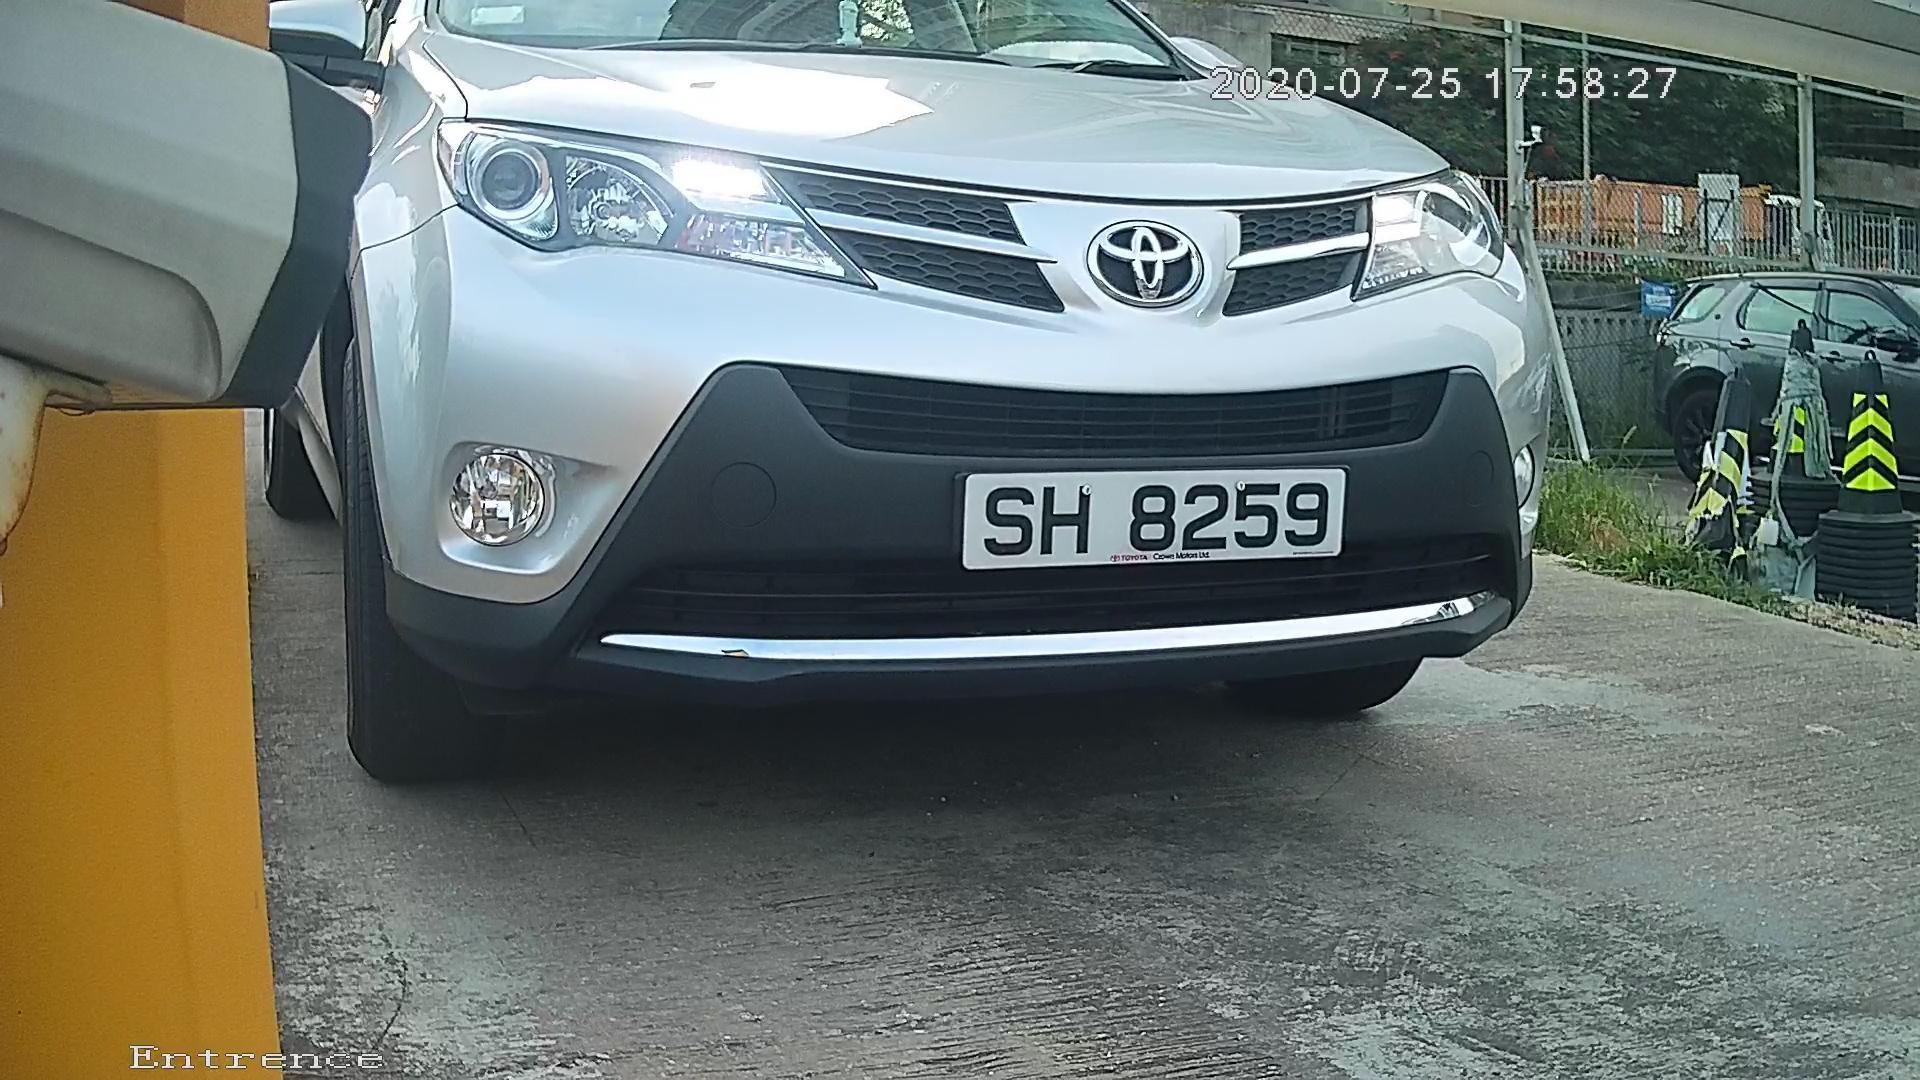privatecar: (262, 3, 1598, 790)
